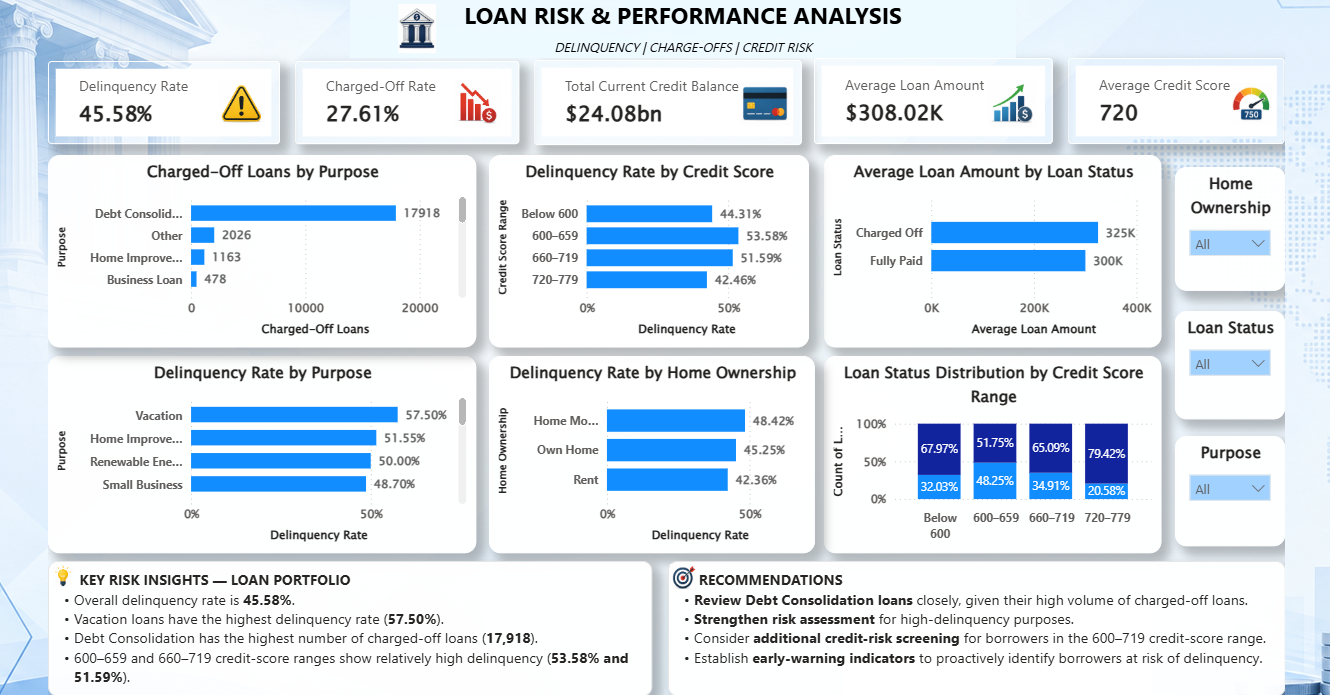

Layout of this report page (visuals, bound fields, positions):
{"tool":"powerbi","page":{"name":"Loan Risk & Performance Analysis","canvas":[1280,720],"ordinal":1},"visuals":[{"type":"cardVisual","title":"Average Credit Score","fields":{"Data":["Fact_Loans.Average Credit Score"]},"box":[1055.7,61.5,224.3,89.1],"z":1000},{"type":"cardVisual","title":"Total Current Credit Balance","fields":{"Data":["Fact_Loans.Total Current Credit Balance"]},"box":[502.5,63,276.6,87.6],"z":2000},{"type":"cardVisual","title":"Charged-Off Rate","fields":{"Data":["Fact_Loans.Charged-Off Rate"]},"box":[255.1,64.5,232,86.1],"z":3000},{"type":"cardVisual","title":"Average Loan Amount","fields":{"Data":["Fact_Loans.Average Loan Amount"]},"box":[792.9,61.5,247.4,89.1],"z":4000},{"type":"cardVisual","title":"Delinquency Rate","fields":{"Data":["Fact_Loans.Delinquency Rate"]},"box":[0,64.5,239.7,86.1],"z":5000},{"type":"clusteredBarChart","title":"Delinquency Rate by Purpose","fields":{"Category":["Dim_Purpose.Purpose"],"Y":["Fact_Loans.Delinquency Rate"]},"box":[0,369.3,442.7,204],"z":6000},{"type":"clusteredBarChart","title":"Charged-Off Loans by Purpose","fields":{"Category":["Dim_Purpose.Purpose"],"Y":["Fact_Loans.Charged-Off Loans"]},"box":[0,161.3,442.7,198.7],"z":7000},{"type":"clusteredBarChart","fields":{"Category":["Fact_Loans.Loan Status"],"Y":["Fact_Loans.Average Loan Amount"]},"box":[802.7,161.3,349.3,198.7],"z":8000},{"type":"clusteredBarChart","title":"Delinquency Rate by Credit Score","fields":{"Category":["Fact_Loans.Credit Score Range"],"Y":["Fact_Loans.Delinquency Rate"]},"box":[456,161.3,330.7,198.7],"z":9000},{"type":"hundredPercentStackedColumnChart","title":"Loan Status Distribution by Credit Score Range","fields":{"Category":["Fact_Loans.Credit Score Range"],"Y":["CountNonNull(Fact_Loans.Loan ID)"],"Series":["Fact_Loans.Loan Status"]},"box":[802.7,369.3,349.3,204],"z":10000},{"type":"clusteredBarChart","fields":{"Category":["Dim_Customers.Home Ownership"],"Y":["Fact_Loans.Delinquency Rate"]},"box":[456,369.3,337.3,204],"z":11000},{"type":"slicer","title":"Loan Status","fields":{"Values":["Fact_Loans.Loan Status"]},"box":[1166.3,322.7,113.7,112.2],"z":12000},{"type":"slicer","title":"Purpose","fields":{"Values":["Dim_Purpose.Purpose"]},"box":[1166.3,451.8,113.7,113.7],"z":13000},{"type":"slicer","title":"Home Ownership","fields":{"Values":["Dim_Customers.Home Ownership"]},"box":[1166.3,173.6,113.7,127.5],"z":14000},{"type":"textbox","box":[0,581.3,625.3,140],"z":15000},{"type":"textbox","box":[822.1,623.9,321.2,96.8],"z":16000},{"type":"textbox","box":[641.3,581.3,638.7,140],"z":17000},{"type":"image","box":[0,584,30.7,24],"z":18000},{"type":"image","box":[641.3,584,32,26.7],"z":19000},{"type":"image","box":[173.3,84,53.3,48],"z":20000},{"type":"image","box":[418.7,84,49.3,48],"z":21000},{"type":"image","box":[1222.7,84,44,48],"z":22000},{"type":"image","box":[972,84,49.3,48],"z":23000},{"type":"image","box":[716,84,52,48],"z":24000},{"type":"textbox","title":"LOAN RISK & PERFORMANCE ANALYSIS","box":[312,0,689.3,61.3],"z":25001},{"type":"image","box":[345.3,5.3,73.3,50.7],"z":25002}]}

Visuals, with their boxes on the page's 1280x720 design canvas (x1, y1, x2, y2). These are canvas units, not pixel positions in the 1330x695 screenshot, which may show the page scaled, cropped or inside an application window:
"Average Credit Score" cardVisual: [left=1056, top=62, right=1280, bottom=151]
"Total Current Credit Balance" cardVisual: [left=502, top=63, right=779, bottom=151]
"Charged-Off Rate" cardVisual: [left=255, top=64, right=487, bottom=151]
"Average Loan Amount" cardVisual: [left=793, top=62, right=1040, bottom=151]
"Delinquency Rate" cardVisual: [left=0, top=64, right=240, bottom=151]
"Delinquency Rate by Purpose" clusteredBarChart: [left=0, top=369, right=443, bottom=573]
"Charged-Off Loans by Purpose" clusteredBarChart: [left=0, top=161, right=443, bottom=360]
clusteredBarChart - Fact_Loans.Loan Status x Fact_Loans.Average Loan Amount: [left=803, top=161, right=1152, bottom=360]
"Delinquency Rate by Credit Score" clusteredBarChart: [left=456, top=161, right=787, bottom=360]
"Loan Status Distribution by Credit Score Range" hundredPercentStackedColumnChart: [left=803, top=369, right=1152, bottom=573]
clusteredBarChart - Dim_Customers.Home Ownership x Fact_Loans.Delinquency Rate: [left=456, top=369, right=793, bottom=573]
"Loan Status" slicer: [left=1166, top=323, right=1280, bottom=435]
"Purpose" slicer: [left=1166, top=452, right=1280, bottom=566]
"Home Ownership" slicer: [left=1166, top=174, right=1280, bottom=301]
textbox: [left=0, top=581, right=625, bottom=721]
textbox: [left=822, top=624, right=1143, bottom=721]
textbox: [left=641, top=581, right=1280, bottom=721]
image: [left=0, top=584, right=31, bottom=608]
image: [left=641, top=584, right=673, bottom=611]
image: [left=173, top=84, right=227, bottom=132]
image: [left=419, top=84, right=468, bottom=132]
image: [left=1223, top=84, right=1267, bottom=132]
image: [left=972, top=84, right=1021, bottom=132]
image: [left=716, top=84, right=768, bottom=132]
"LOAN RISK & PERFORMANCE ANALYSIS" textbox: [left=312, top=0, right=1001, bottom=61]
image: [left=345, top=5, right=419, bottom=56]
